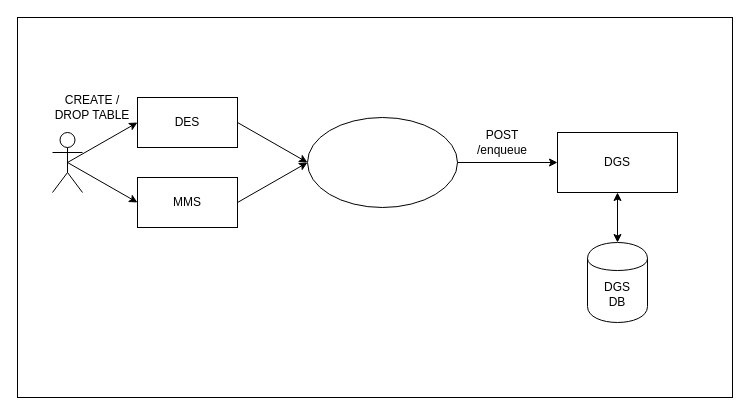
The diagram is 750 pixels wide and 415 high, and some of its shapes have lost their labels. Each missing label, with the box of its shape:
Actor: (52, 132, 82, 192)
Spark-NR with Spark-extensions: (306, 116, 458, 208)
